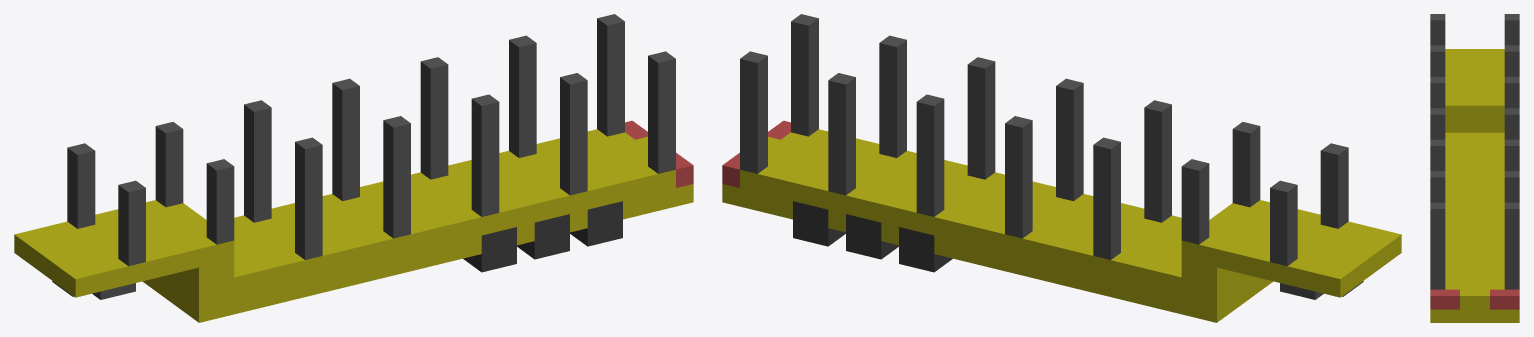
The model's file is semitrailer-v3-yellow.gltf.
3 renders of one model, left to right at view 1: azimuth 30°, elevation 25°; view 2: azimuth 150°, elevation 25°; view 3: azimuth 270°, elevation 25°, orthographic. The views are drawn at different scales.
Parts seen in each view (by area): view 1: model, wheels; view 2: model, wheels; view 3: model.
Boxes of the visible parts, x1,y1,x2,y2 form: model: [14, 14, 693, 322]; wheels: [463, 201, 622, 272]; model: [722, 14, 1401, 322]; wheels: [793, 201, 952, 272]; model: [1430, 14, 1519, 322].
Size of the model in its own units: 3.5 by 0.9 by 0.6.
Materials: 2 (2 with a texture image).
